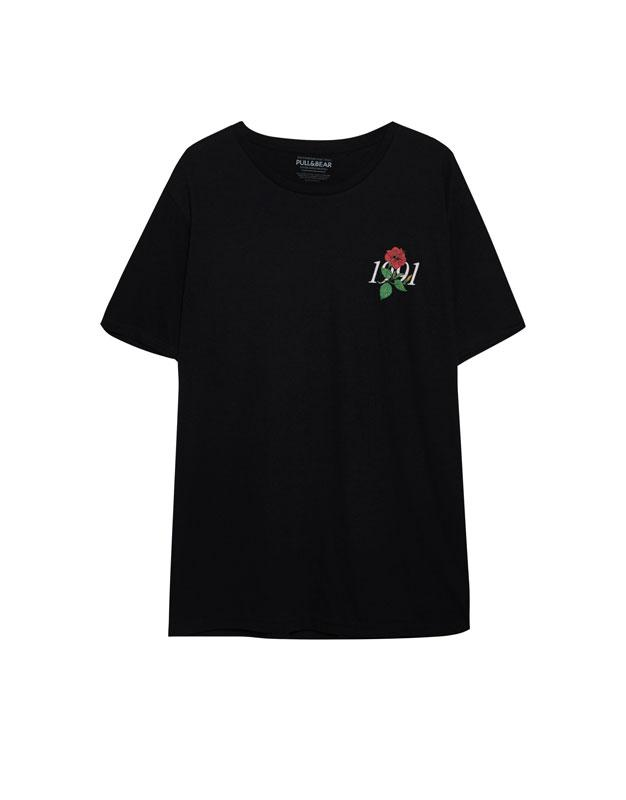teeshirt: (84, 114, 602, 718)
